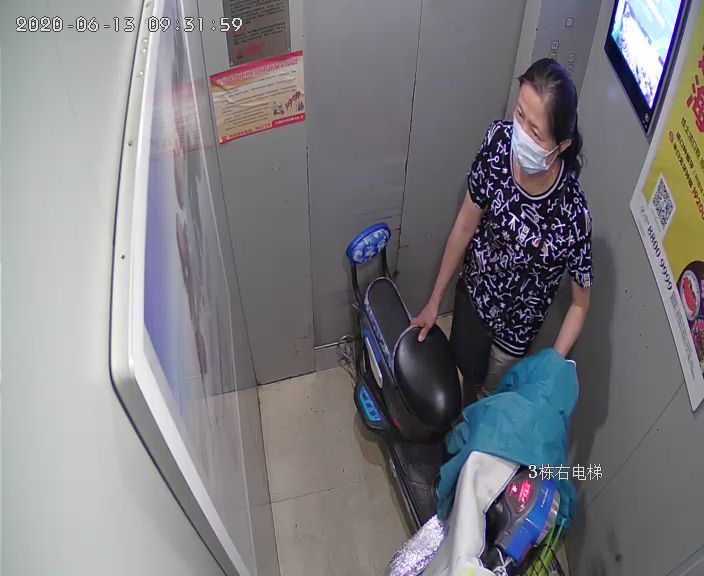Electric-bicycle: (337, 223, 577, 576)
